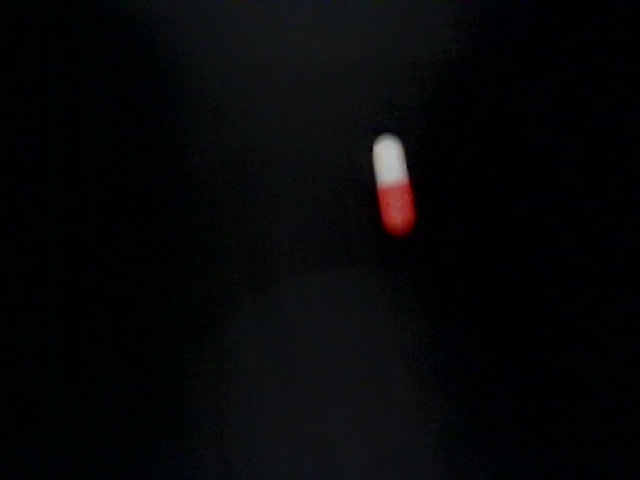YHLJ: (280, 382, 368, 480)
